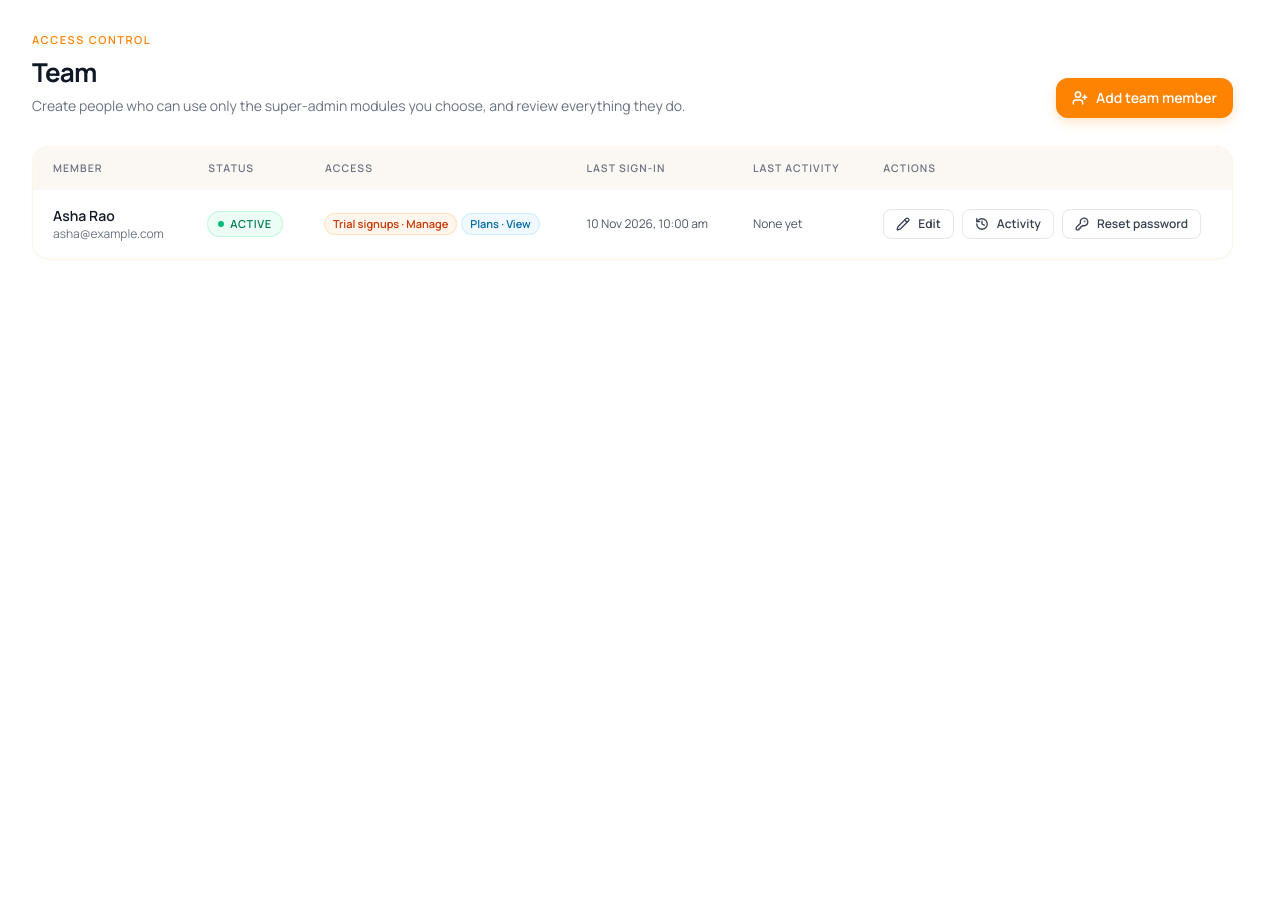
Test case: Add member › validates name, email and at least one module
The width and height of the screenshot is (1280, 900).
Click the button "Add team member" at (1144, 98), box [1056,78,1233,118]
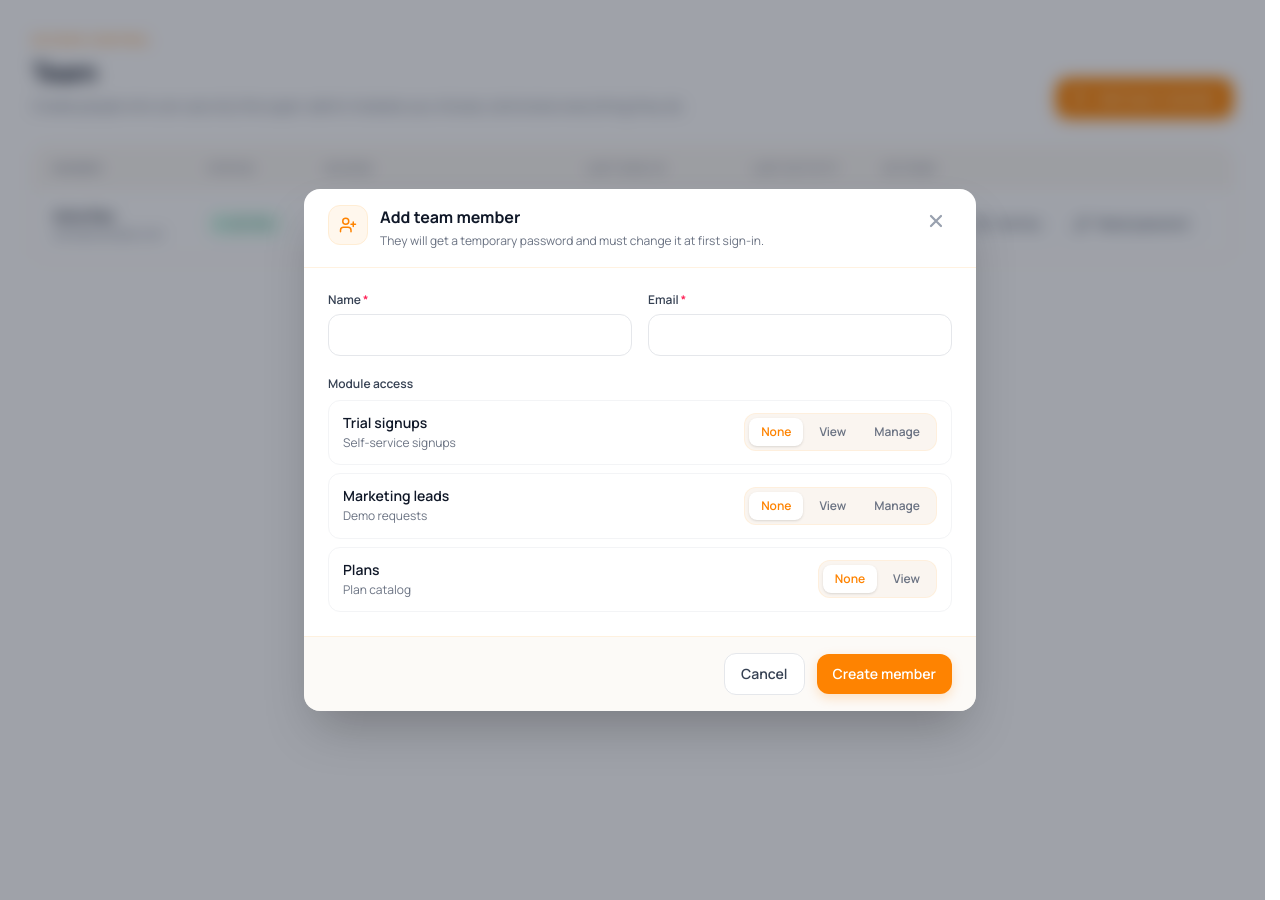
Expected: the field labelled "Name" is shown, [328,314,632,356]
Click the button "Create member" at (884, 674), box [817,654,952,694]
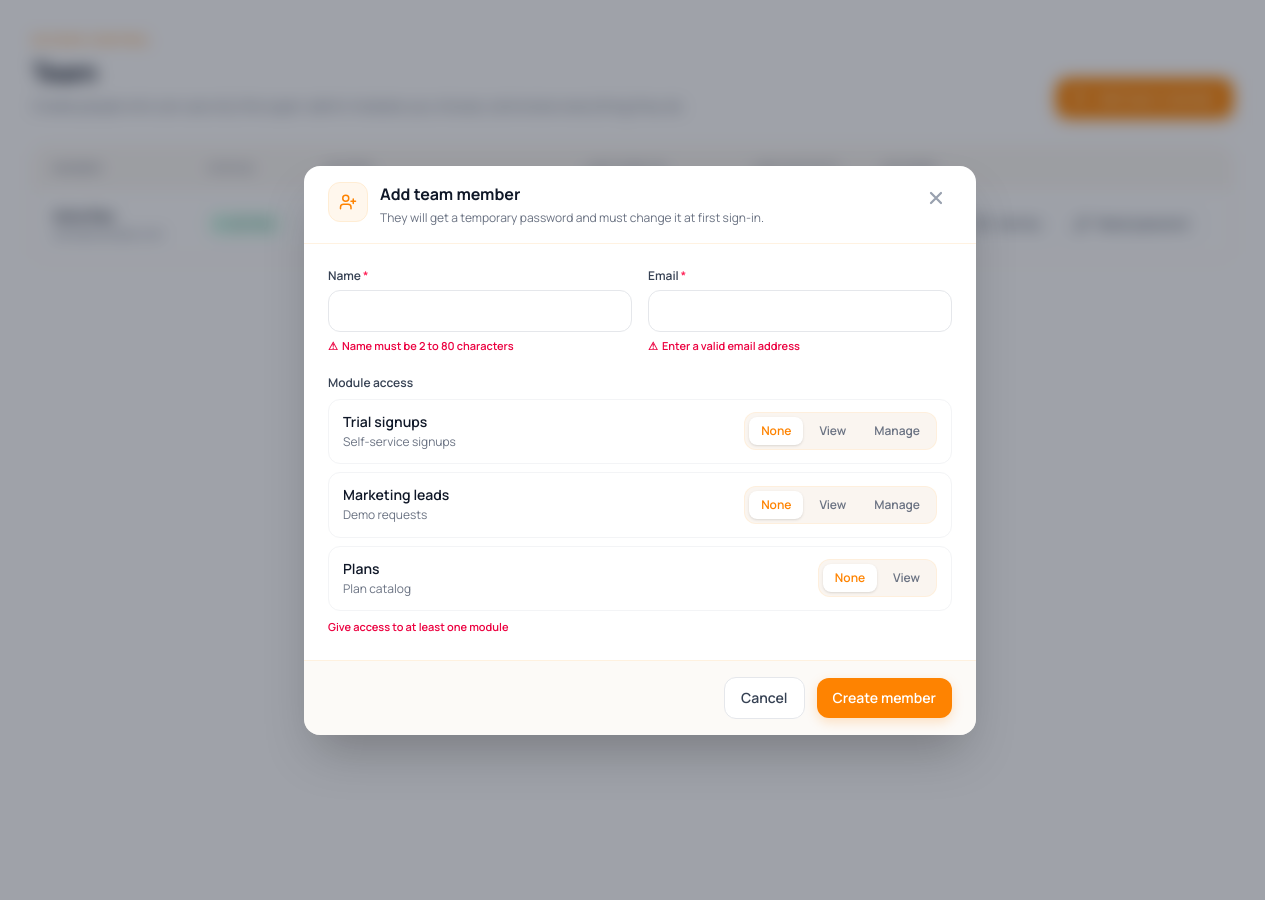
Expected: the text "Name must be 2 to 80 characters" is shown, [342,338,514,353]
Expected: the text "Enter a valid email address" is shown, [662,338,800,353]
Expected: the text "Give access to at least one module" is shown, [328,619,508,634]
